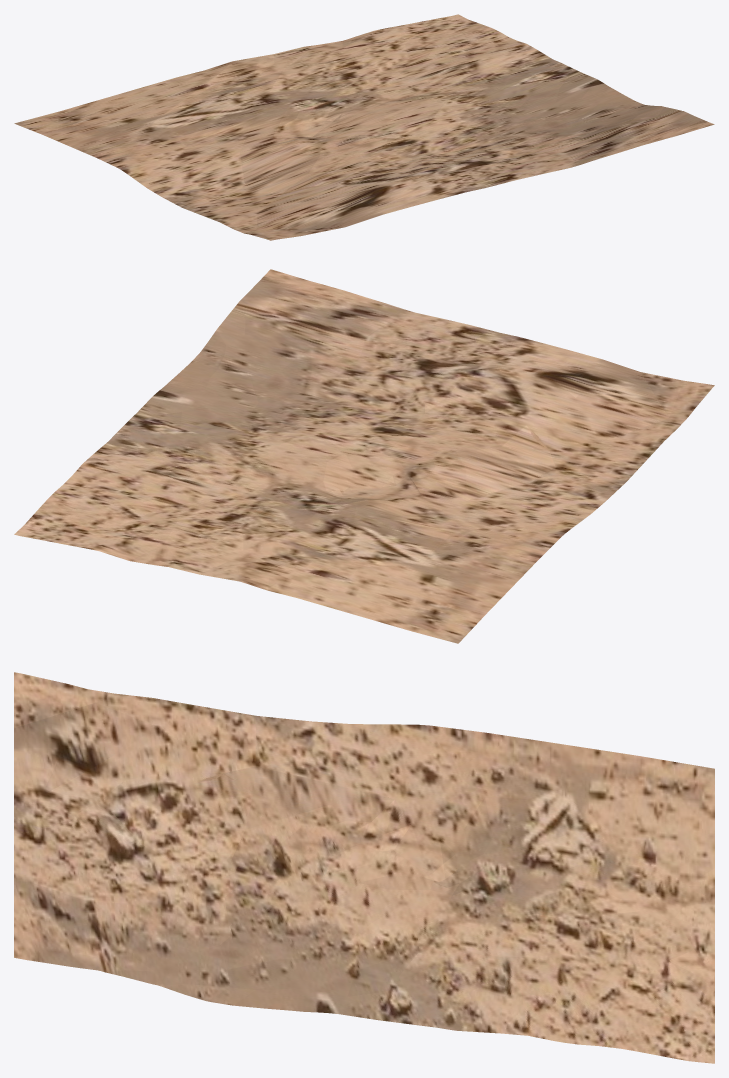
3 renders of one model, top to bottom at view 1: azimuth 30°, elevation 25°; view 2: azimuth 150°, elevation 25°; view 3: azimuth 270°, elevation 25°, orthographic. The views are drawn at different scales.
Bounding box in the file's own units: 1.04 × 0.1762 × 1.04.
Materials: 2 (2 with a texture image).
